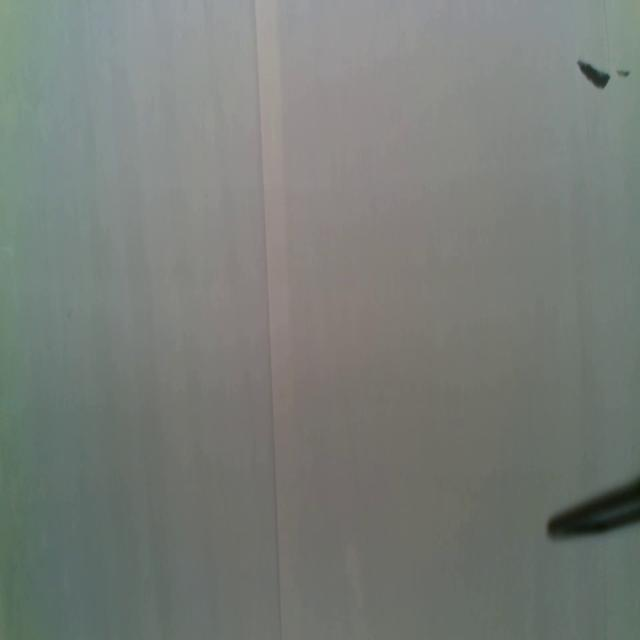crease: (253, 0, 300, 636)
hole: (577, 58, 612, 92), (616, 67, 632, 79)
